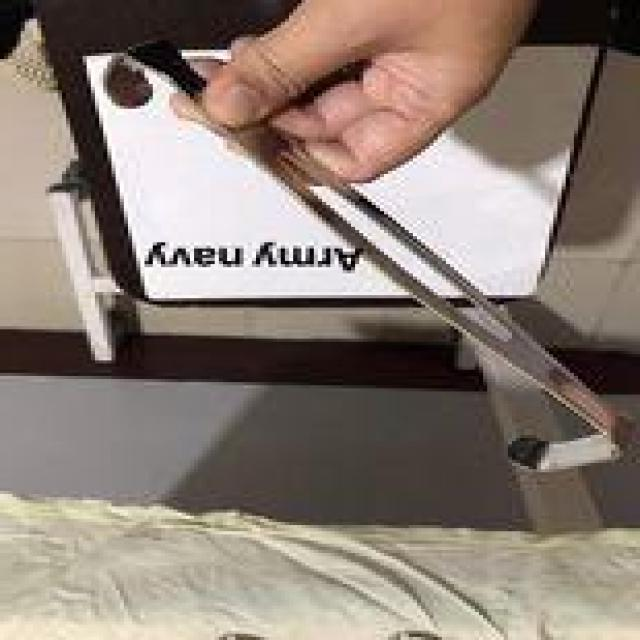Army_navy: (99, 28, 632, 478)
